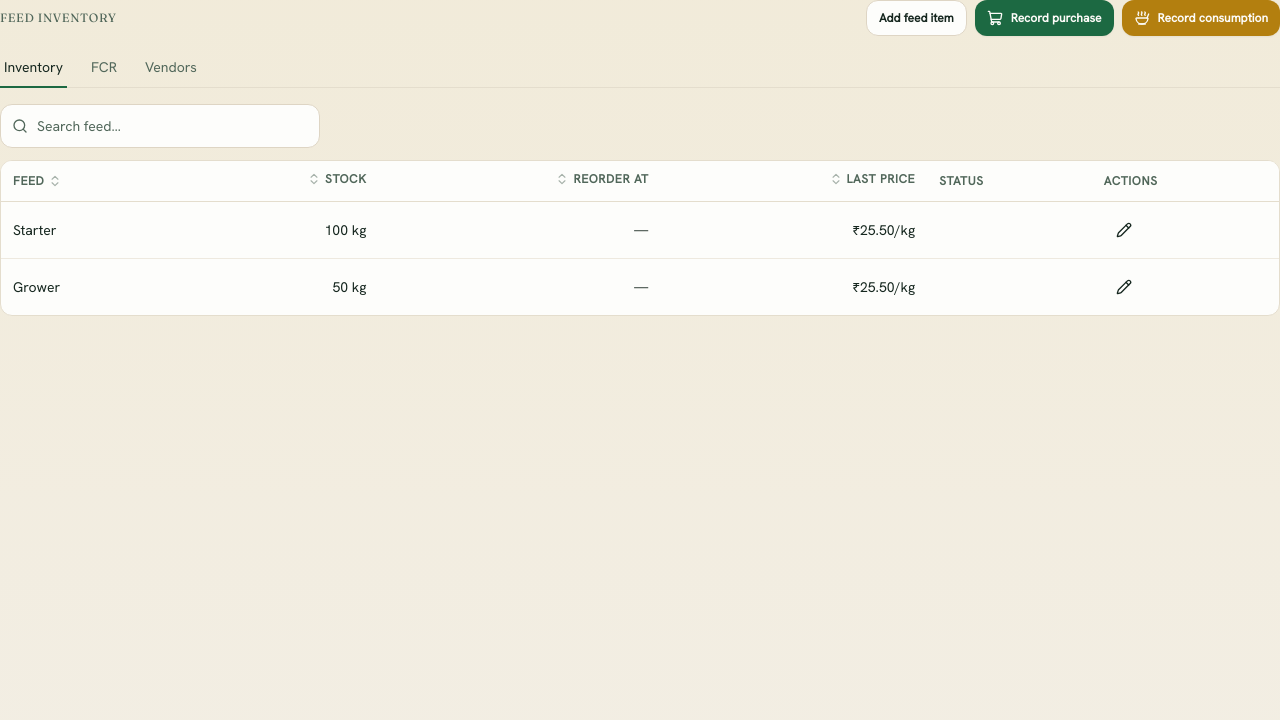
Test: FeedPanel (11.6c conversion) › keeps purchase and consumption item selections independent (buyId bug fix)
This screenshot has width=1280, height=720.
Check: the text "Starter" is shown, box [13,220,56,238]
// change the selection inside the purchase dialog…
Click the button "Record purchase" at (1044, 18), box [975,0,1114,36]
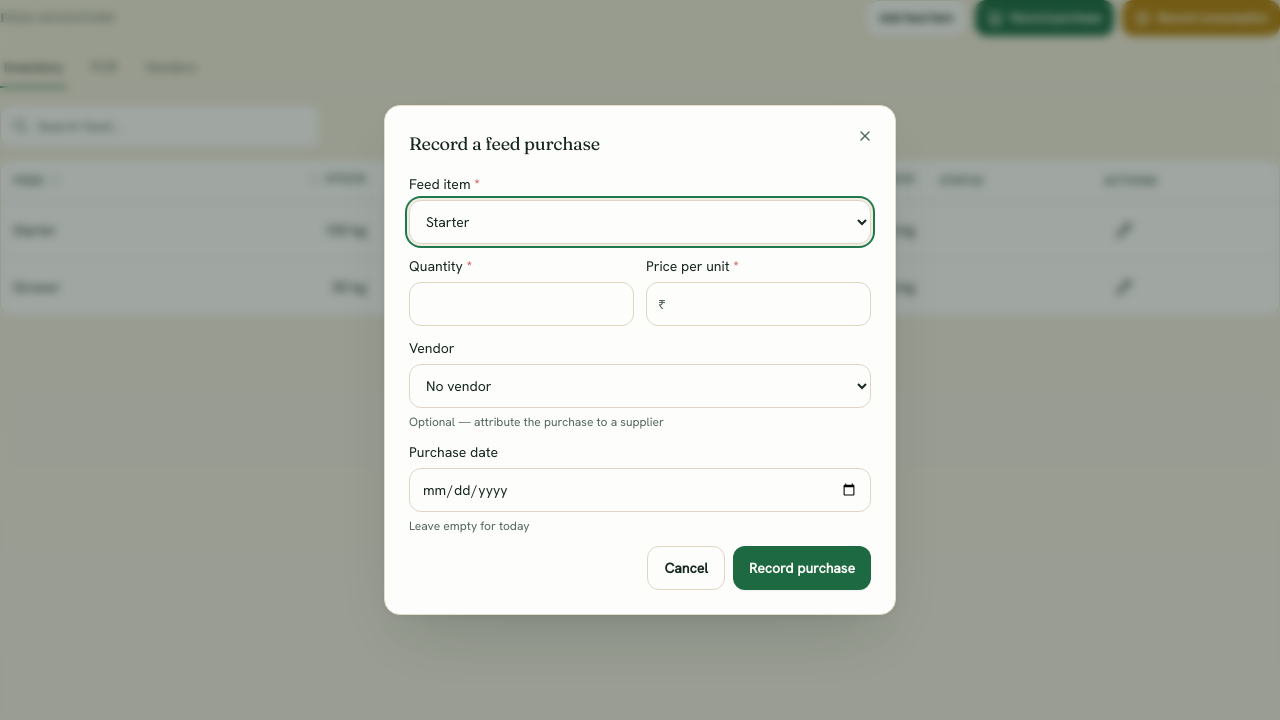
Select "Grower" in the dropdown labelled "Feed item *" at (640, 222), box [409,200,871,244]
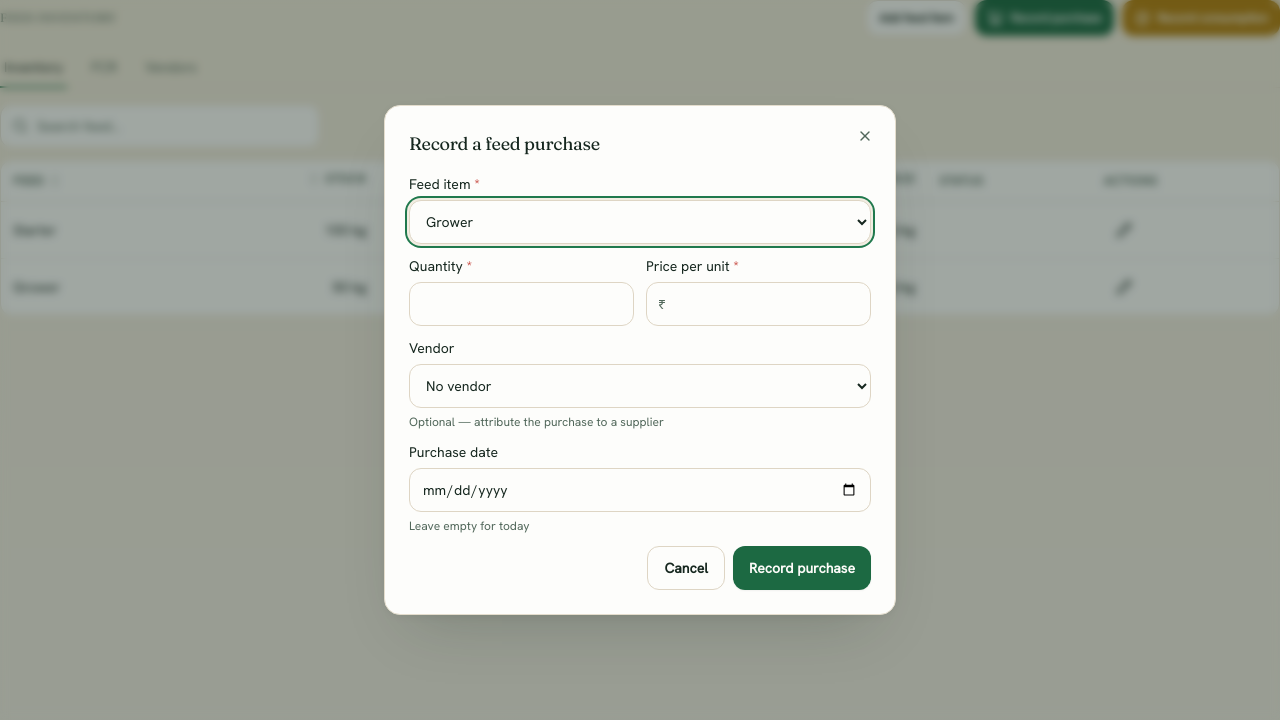
Click the button "Cancel" at (686, 568), box [648,546,725,590]
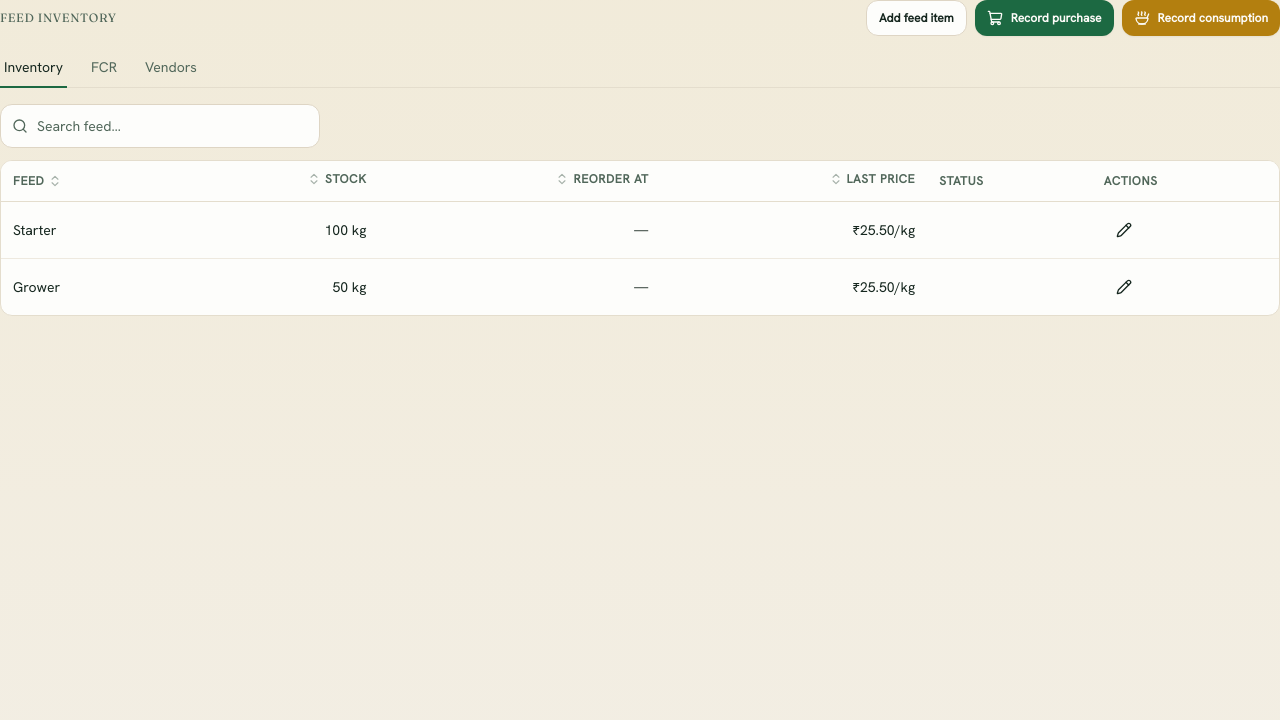
Check: the dialog is gone
// …the consumption dialog still defaults to the first item (no shared state)
Click the button "Record consumption" at (1201, 18), box [1122,0,1279,36]
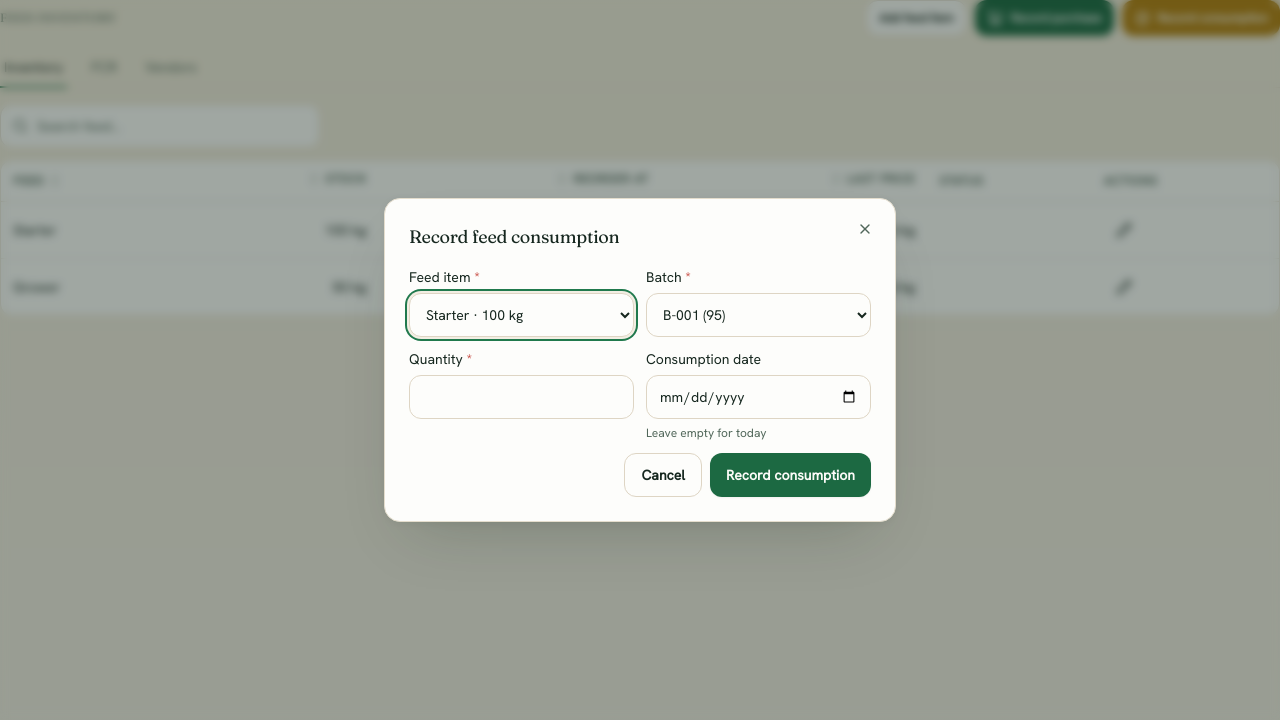
Check: the dropdown labelled "Feed item *" shows "Starter · 100 kg", box [409,293,634,337]
